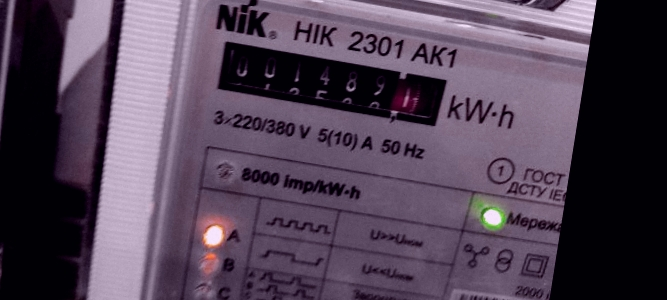0: (259, 52, 279, 79), (232, 51, 251, 78)
1: (288, 55, 306, 86), (397, 78, 414, 110)
4: (315, 60, 334, 88)
8: (340, 64, 361, 94)
9: (369, 71, 387, 98)
screen: (199, 27, 463, 142)
